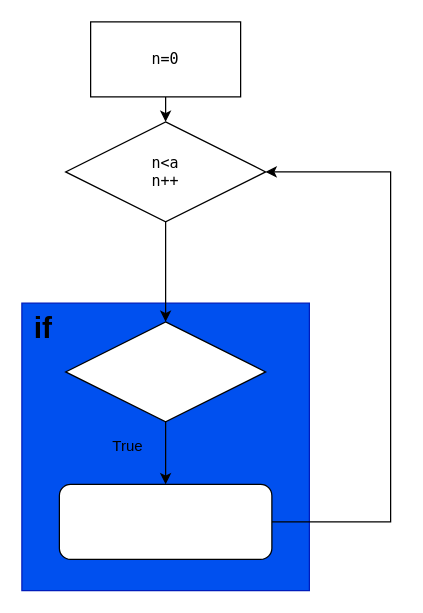
The diagram is 423 pixels wide and 613 high, and some of its shapes have lost their labels. The shapes that lost their labels are listed below. From the top down, each one's box as (x1, y1, x2, y2) in pixels, then its label:
(64, 321, 266, 422): mod[i] != sort[n]
(58, 483, 272, 559): sort[a] = mod[n] a++
